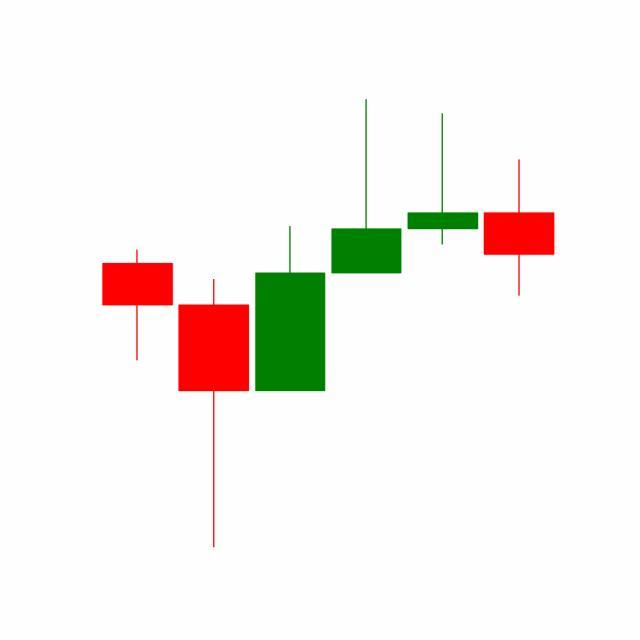Gravestone Doji: (404, 112, 482, 247)
